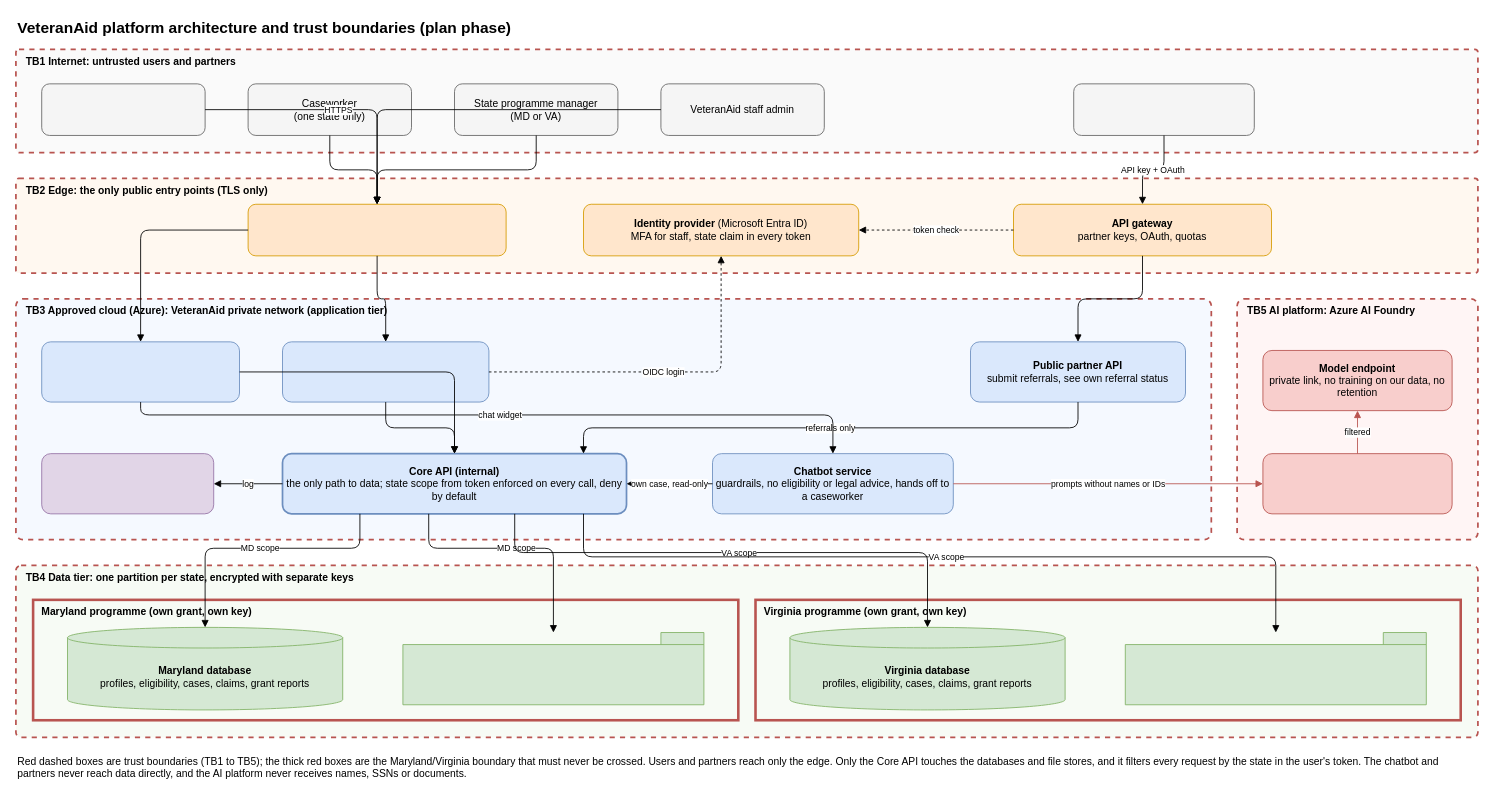
This 1493x808 diagram has some shape labels left out. The centre of each missing label's shape, as x and y in pixels:
"Admin portal eligibility, cases, grant reports" belongs at point (385, 371).
"Audit log append-only, every record access" belongs at point (127, 483).
"Content filters prompt-injection and PII checks" belongs at point (1357, 483).
"Maryland file store DD-214s, medical letters, leases, notes, chat transcripts" belongs at point (553, 668).
"Public website veteran login, self-service, chat widget" belongs at point (140, 371).
"Referral partner system (housing nonprofit)" belongs at point (1163, 109).
"Veteran (phone or shared computer)" belongs at point (123, 109).
"Virginia file store DD-214s, medical letters, leases, notes, chat transcripts" belongs at point (1275, 668).
"WAF / CDN TLS, bot and rate limiting" belongs at point (376, 229).
